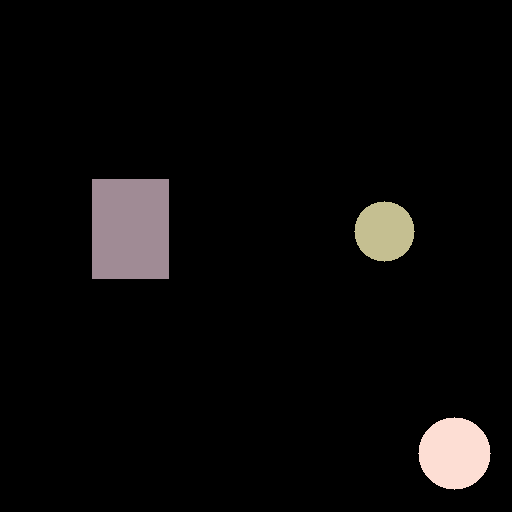circle: (418, 417, 490, 489), (354, 201, 414, 261)
rectangle: (92, 179, 168, 278)
